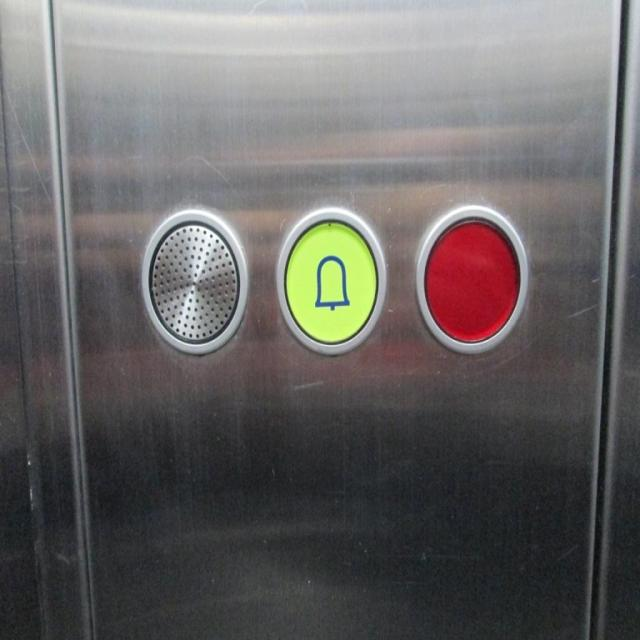alarm: (271, 202, 390, 358)
empty: (412, 199, 532, 355)
speaker: (133, 202, 255, 358)
